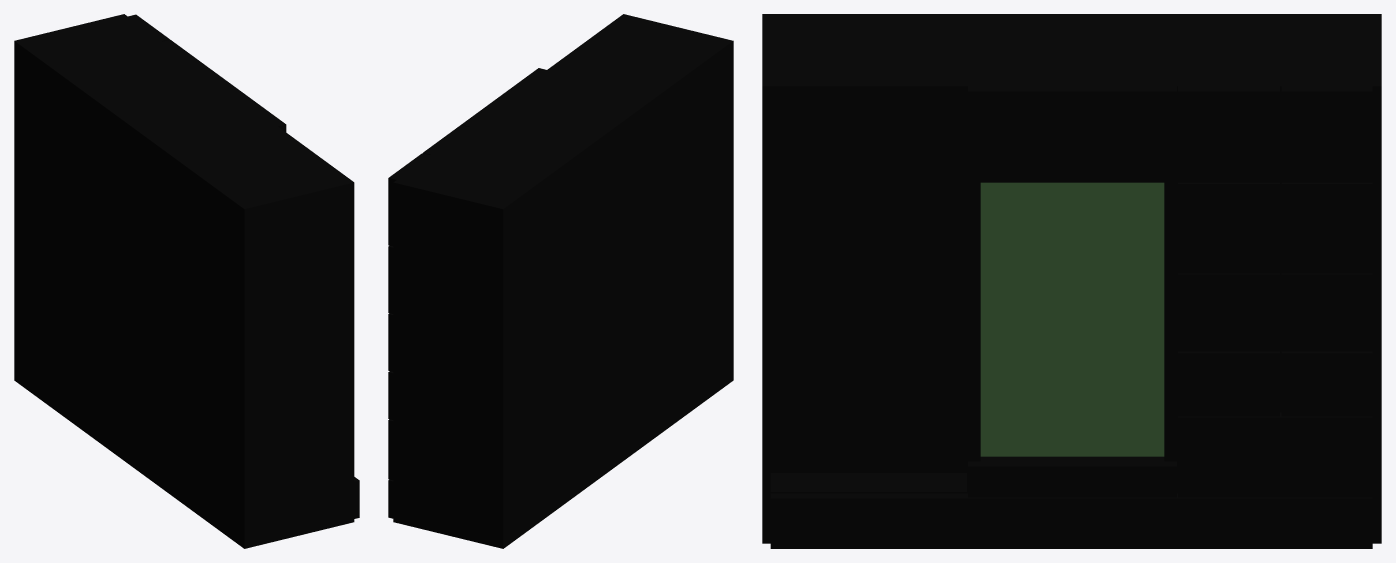
The model's file is closet good final.fbx.
The picture shows the model from 3 angles, left to right: view 1: azimuth 30°, elevation 25°; view 2: azimuth 150°, elevation 25°; view 3: azimuth 270°, elevation 25°; orthographic projection. The views are drawn at different scales.
Parts seen in each view (by area): view 1: polySurface2; view 2: polySurface2; view 3: polySurface2.
Part boxes in pixels (box(x1,y1,x2,y2)): polySurface2: box(14, 14, 359, 548); polySurface2: box(388, 14, 733, 548); polySurface2: box(762, 14, 1381, 548).
Bounding box in the file's own units: 5.43 × 14.89 × 18.29.
